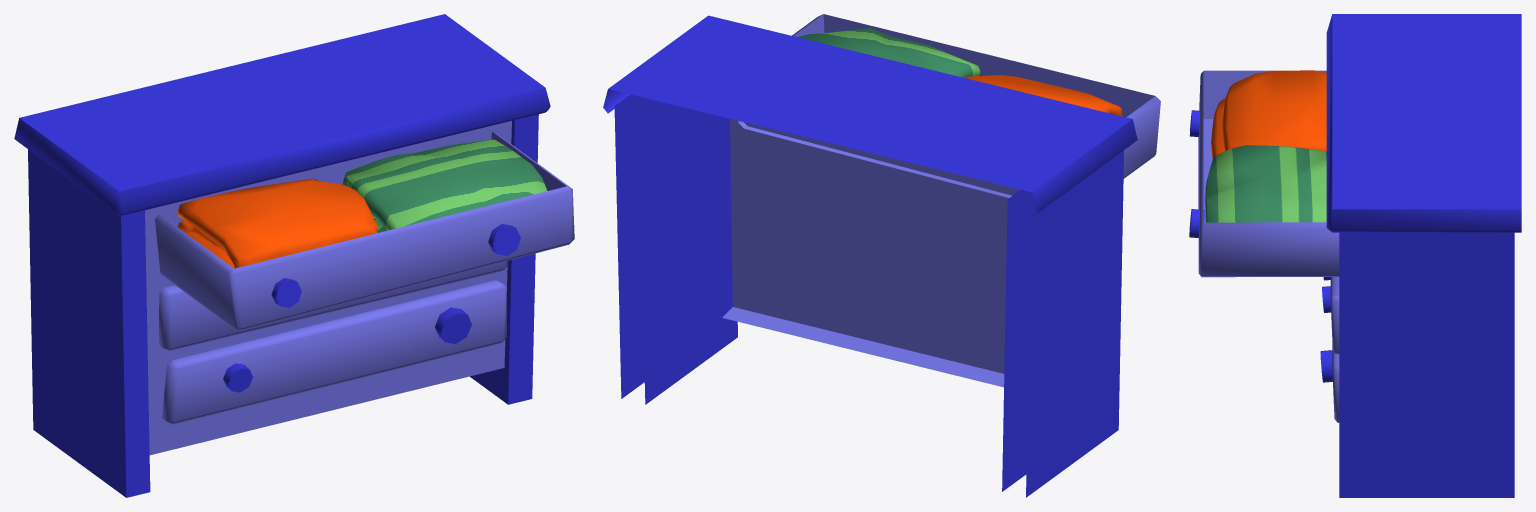
File: ChestDrawersOpen.FBX
3 renders of one model, left to right at view 1: azimuth 30°, elevation 25°; view 2: azimuth 150°, elevation 25°; view 3: azimuth 270°, elevation 25°, orthographic. The views are drawn at different scales.
Parts seen in each view (by area): view 1: ChestDrawersOpen; view 2: ChestDrawersOpen; view 3: ChestDrawersOpen.
Part boxes in pixels (x1=…): ChestDrawersOpen: x1=14, y1=14, x2=574, y2=497; ChestDrawersOpen: x1=603, y1=14, x2=1160, y2=497; ChestDrawersOpen: x1=1189, y1=14, x2=1521, y2=497.
Size of the model in its own units: 5.28 by 3.61 by 3.71.
